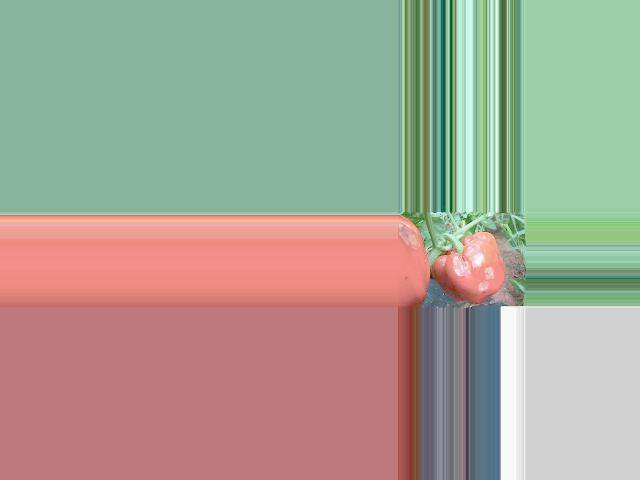bell_pepper: (433, 225, 502, 308)
